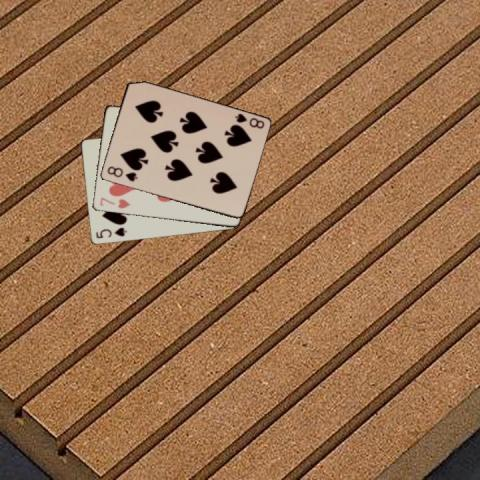5s: (93, 225, 128, 240)
7h: (97, 195, 131, 210)
8s: (104, 164, 139, 184), (232, 111, 265, 130)
